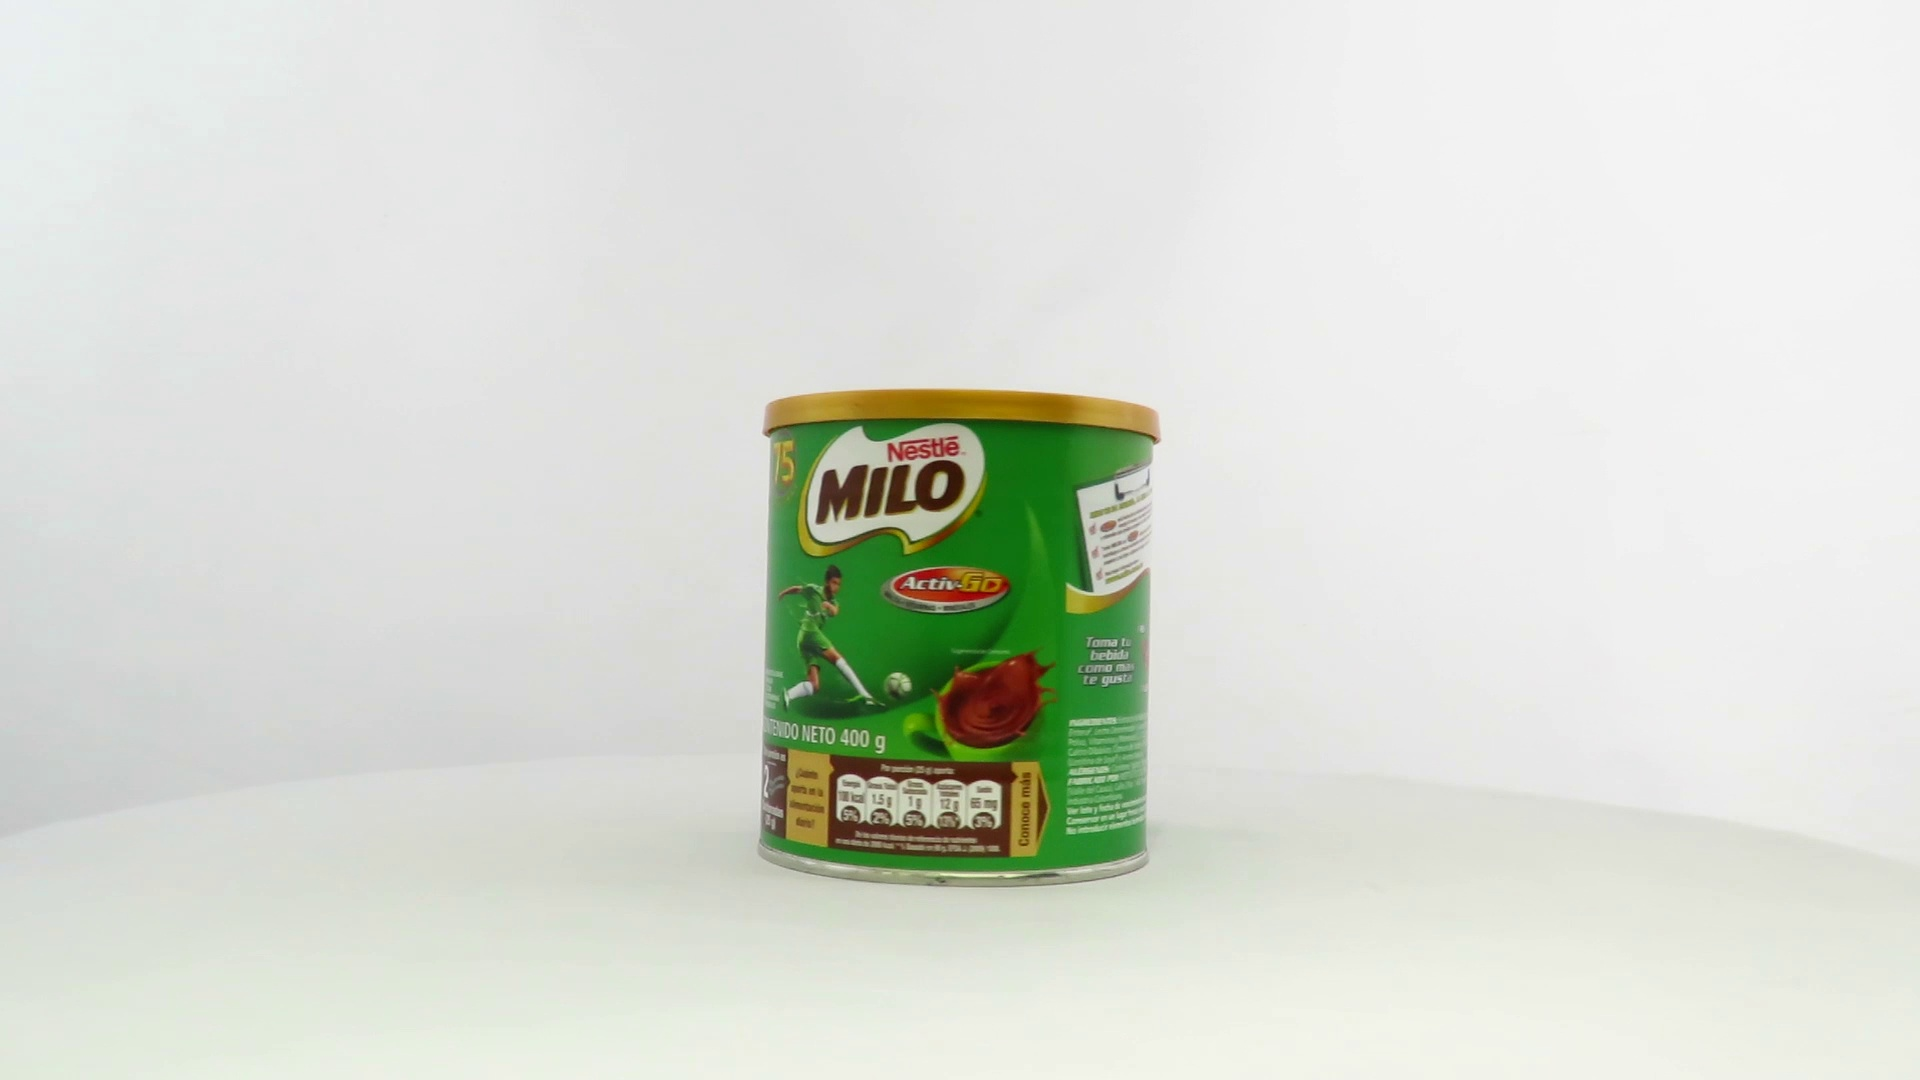COL0170203LAT40000: (752, 384, 1167, 894)
